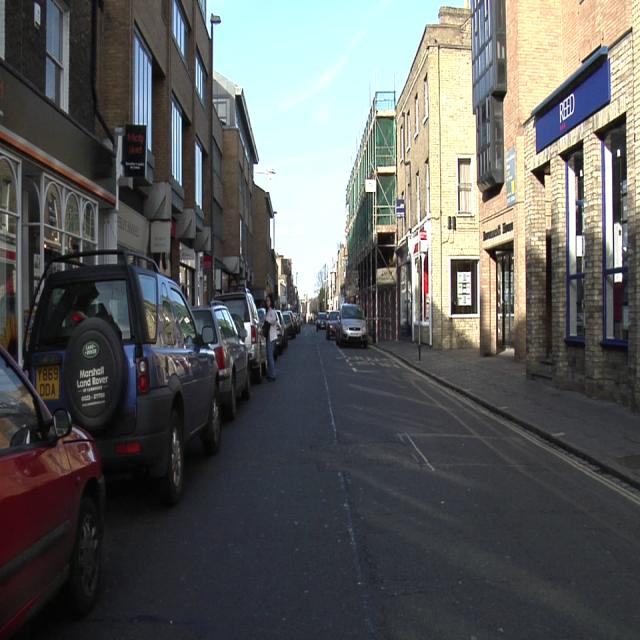Building: (1, 1, 286, 366), (474, 1, 639, 411), (344, 8, 476, 345)
Car: (25, 252, 220, 503), (1, 345, 103, 638), (194, 306, 250, 416), (264, 305, 285, 378), (337, 305, 367, 347), (281, 311, 298, 337), (326, 311, 339, 339), (317, 312, 327, 330)
Road: (14, 326, 637, 636)
